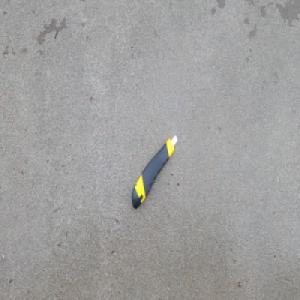Cutter: (131, 132, 178, 210)
